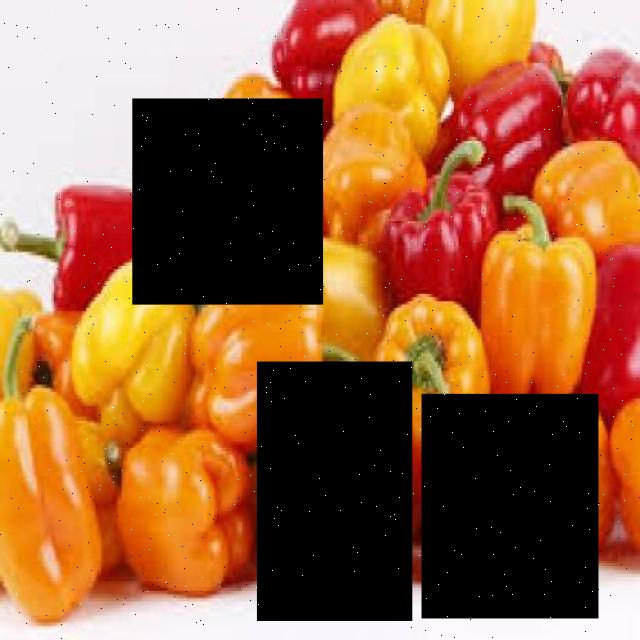Capsicum: (257, 362, 412, 621), (422, 394, 598, 618), (132, 100, 323, 306)
